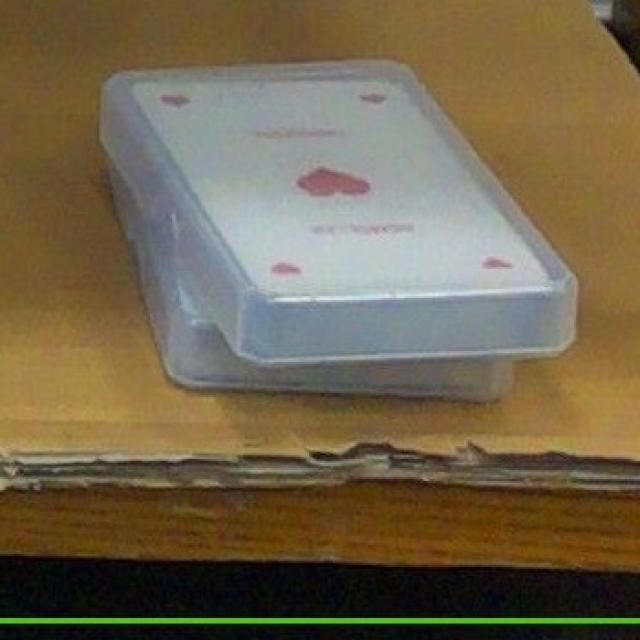Jasskarte: (99, 60, 574, 364), (106, 161, 512, 400)
